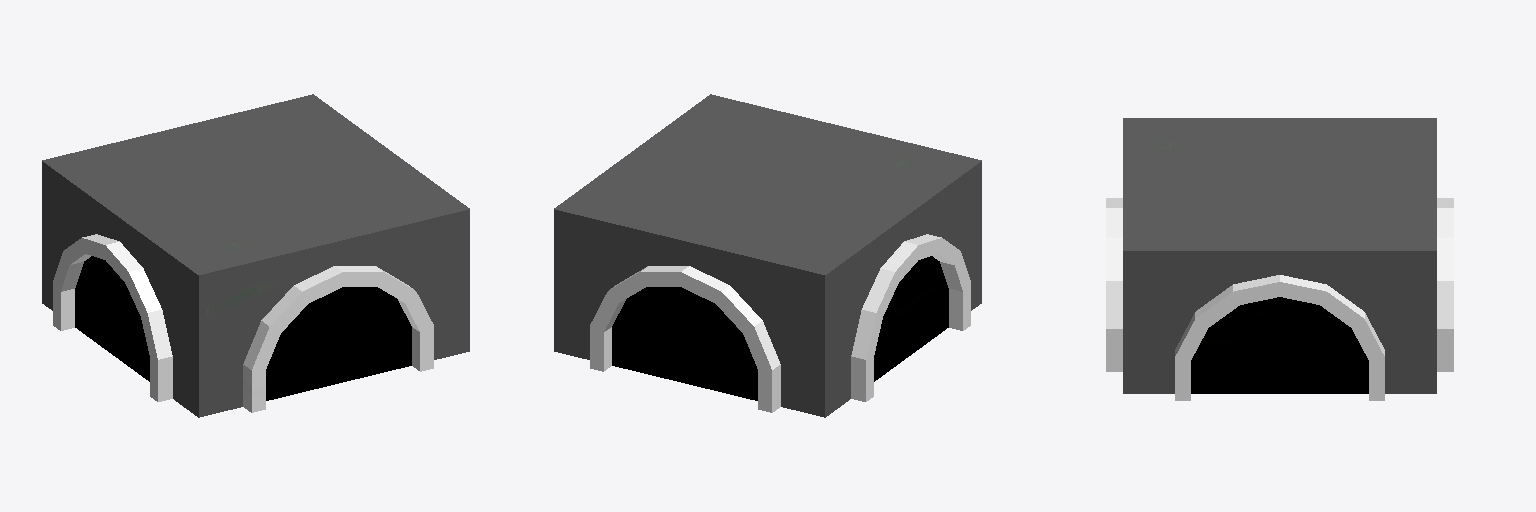
3 views of the same model, side by side, from view 1: azimuth 30°, elevation 25°; view 2: azimuth 150°, elevation 25°; view 3: azimuth 270°, elevation 25° (orthographic).
Parts seen in each view (by area): view 1: Building.001; view 2: Building.001; view 3: Building.001.
Part boxes in pixels (bbox=[...]): Building.001: bbox=[42, 94, 469, 417]; Building.001: bbox=[554, 94, 981, 417]; Building.001: bbox=[1106, 118, 1453, 400].
Size of the model in its own units: 2.22 by 1 by 2.22.
Materials: 1 (1 with a texture image).